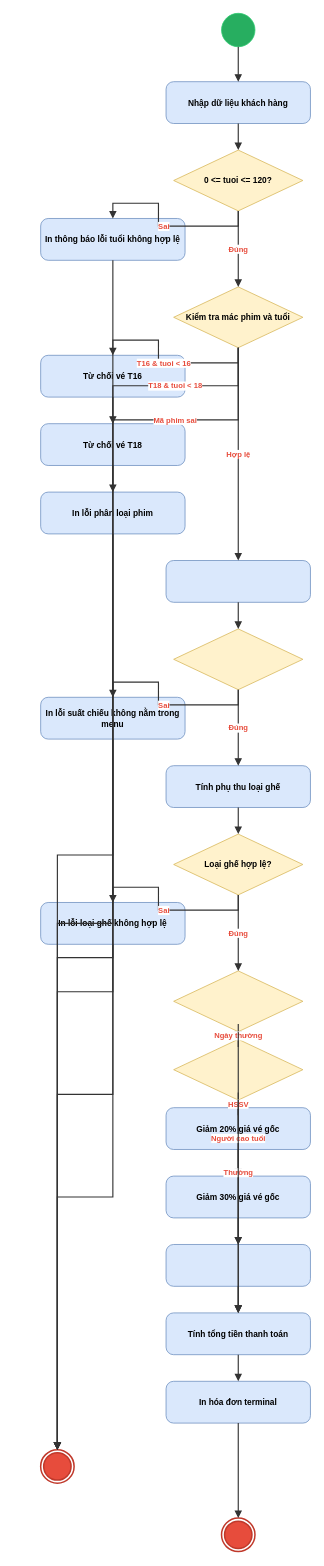
Some shapes in this 324 by 1566 pixel diagram are drawn without their labels. Each missing label, with the box of its shape:
Bắt đầu chương trình: (221, 13, 255, 47)
Không giảm giá: (165, 1244, 310, 1286)
Kiểm tra đối tượng: (173, 1039, 303, 1100)
Kết thúc thành công: (220, 1517, 255, 1552)
Kết thúc: Lỗi dữ liệu: (40, 1449, 74, 1484)
Ngày thường?: (173, 970, 303, 1032)
Suất chiếu hợp lệ?: (173, 628, 303, 690)
Tính giá vé gốc theo suất chiếu: (165, 560, 310, 602)
